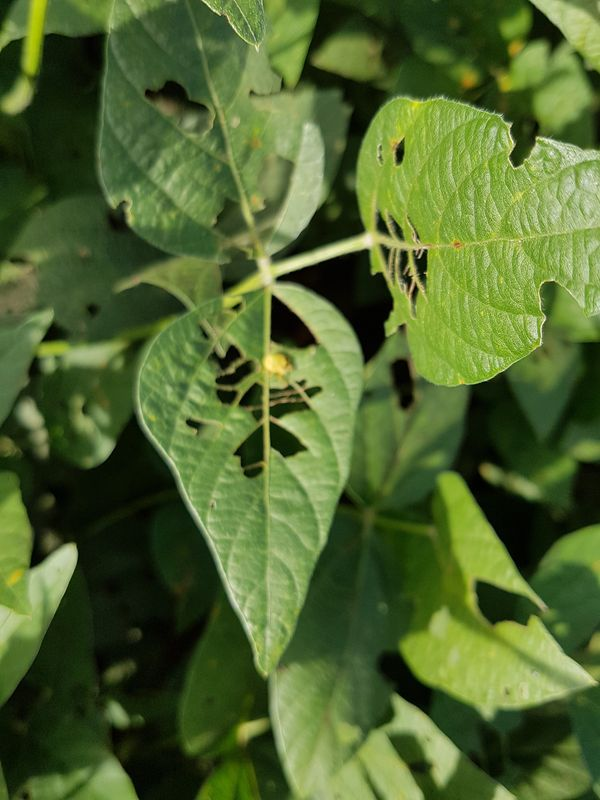Euschistus_heros_ninfa: (254, 343, 302, 385)
